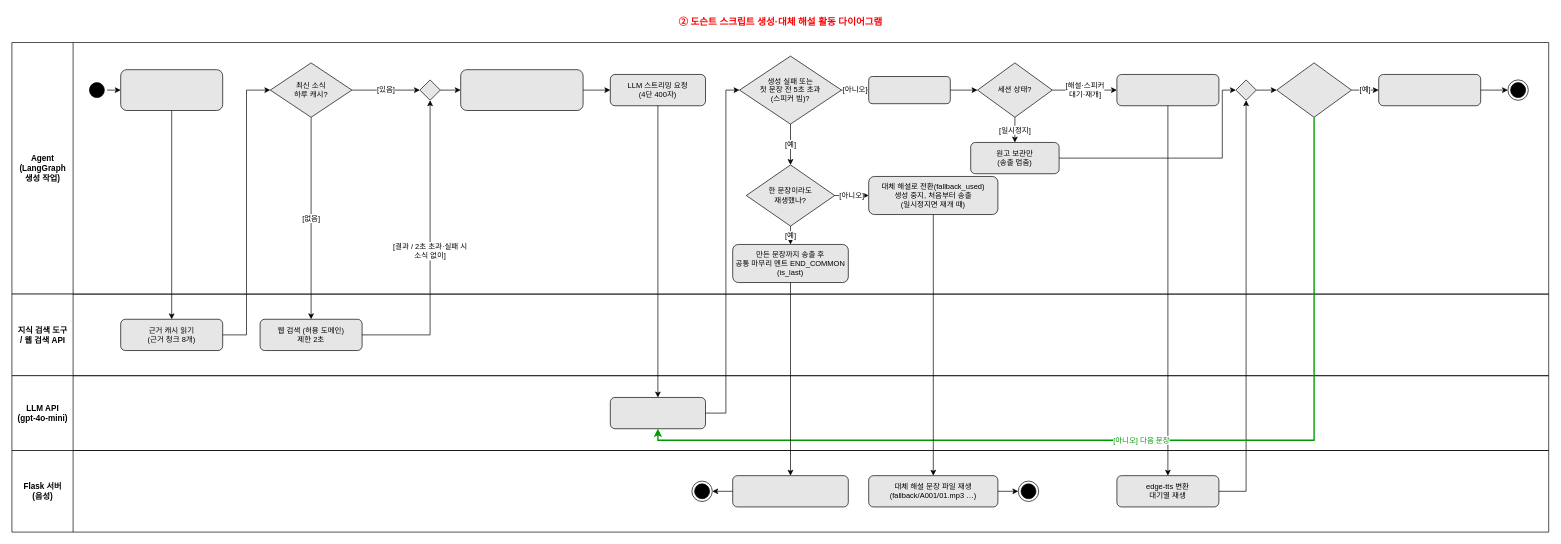
This 1561x544 diagram has some shape labels left out. Each missing label, with the centre of its shape:
"관람 판정 수신 (VIEWING_START) 5초 타이머 시작" goes at point 171,90.
"구역 잠금 획득" goes at point 909,90.
"마무리 멘트 재생 → 원고 끝(완료 대기)" goes at point 790,491.
"마지막 문장?" goes at point 1314,89.
"문장 생성 (토큰 스트림)" goes at point 658,413.
"원고 끝 표시(is_last) 원고·근거 보관" goes at point 1429,90.
"프롬프트 구성 (근거 + 소식 상위 3건, 도록과 다른 내용 금지)" goes at point 521,90.
"해설 재생 요청 (sentence_no, text)" goes at point 1167,90.
